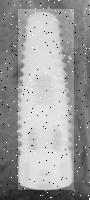Nobel Biocare: (13, 8, 74, 190)
